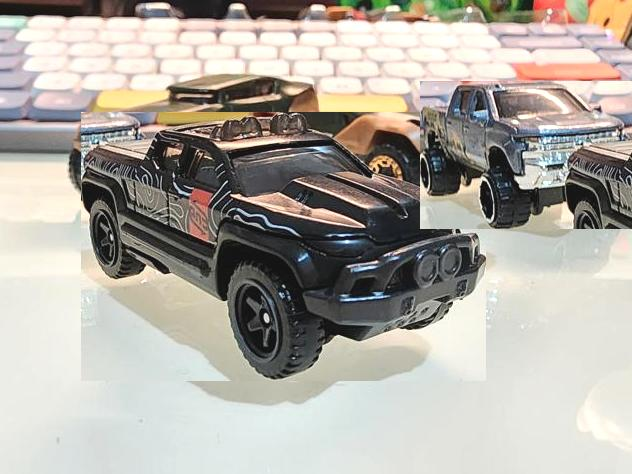toy-car: (82, 113, 487, 382), (68, 73, 320, 198), (420, 81, 632, 229)
